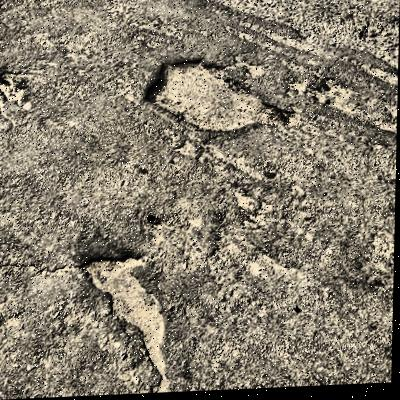pothole: (139, 52, 301, 141), (79, 252, 177, 396), (0, 69, 31, 114)
